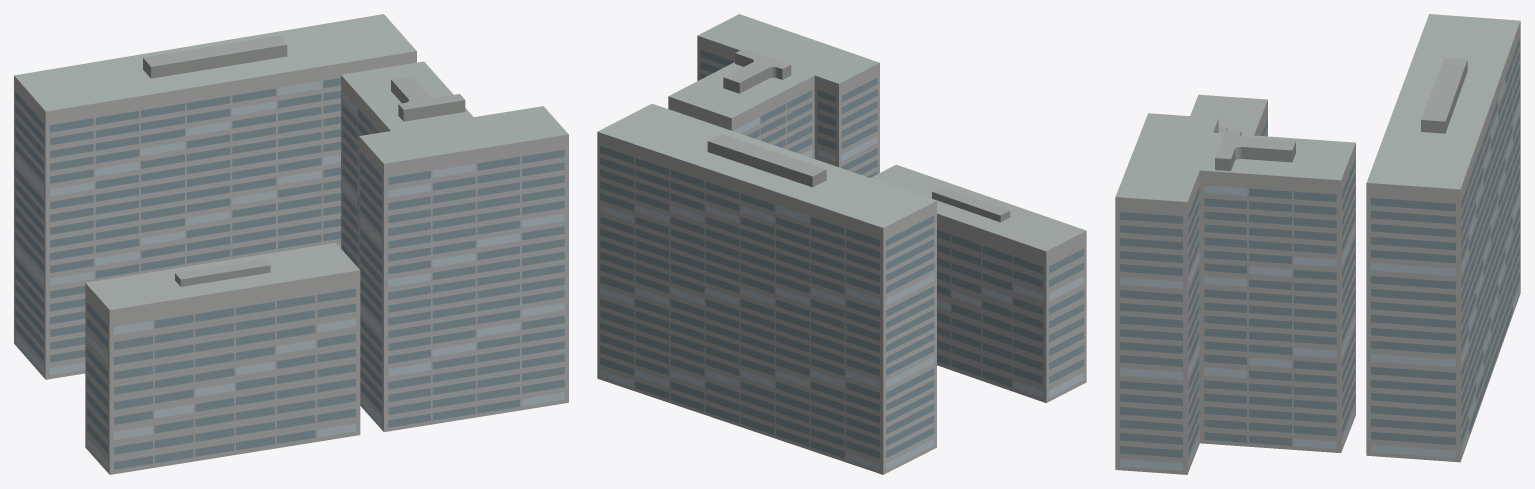
Rendered from apt-a15882010.glb.
The picture shows the model from 3 angles, left to right: view 1: azimuth 30°, elevation 25°; view 2: azimuth 150°, elevation 25°; view 3: azimuth 270°, elevation 25°; orthographic projection. The views are drawn at different scales.
Parts seen in each view (by area): view 1: apt-a15882010; view 2: apt-a15882010; view 3: apt-a15882010.
Part boxes in pixels (x1,y1,x2,y2): apt-a15882010: (14,14,568,474); apt-a15882010: (597,14,1086,474); apt-a15882010: (1115,14,1520,474).
Size of the model in its own units: 91.23 by 57 by 73.47.
